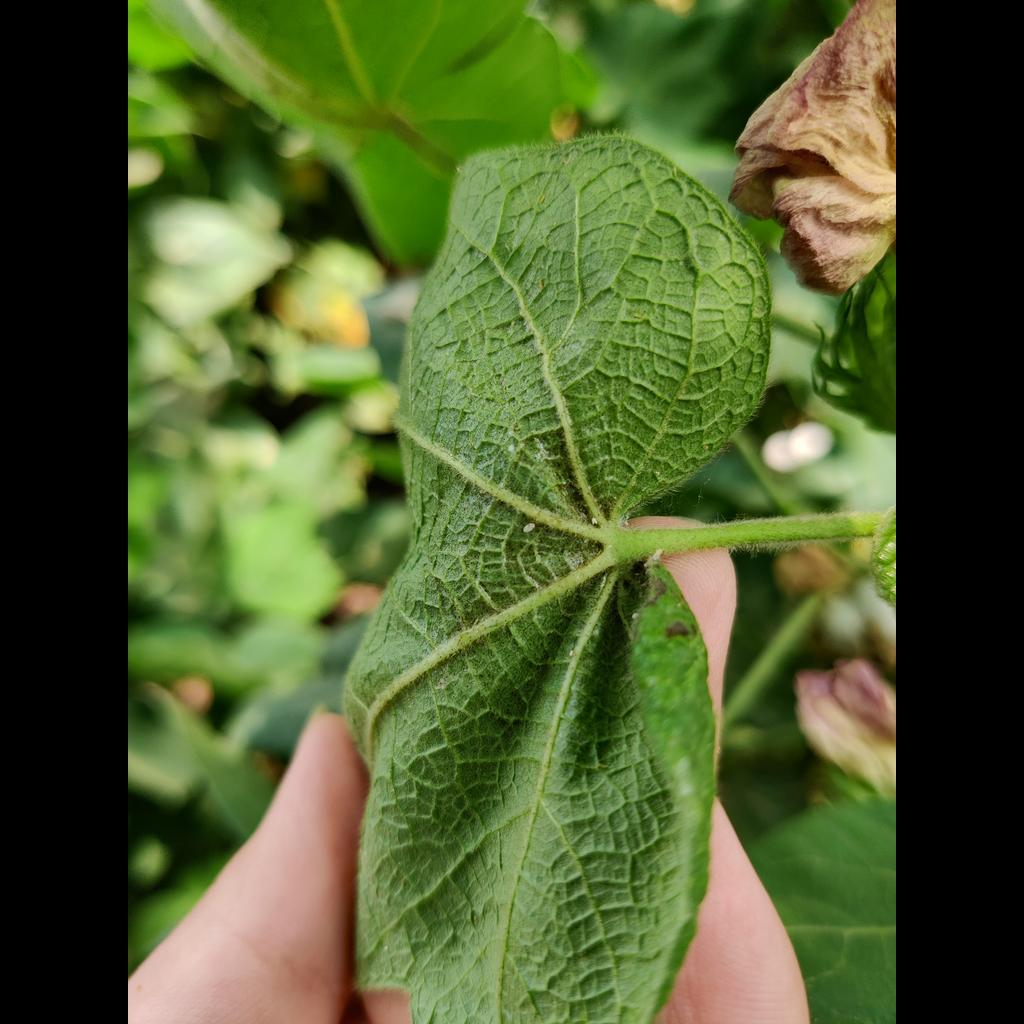nymph: (523, 523, 535, 533), (508, 444, 515, 455), (591, 516, 598, 525), (632, 613, 637, 619), (569, 650, 573, 656)
